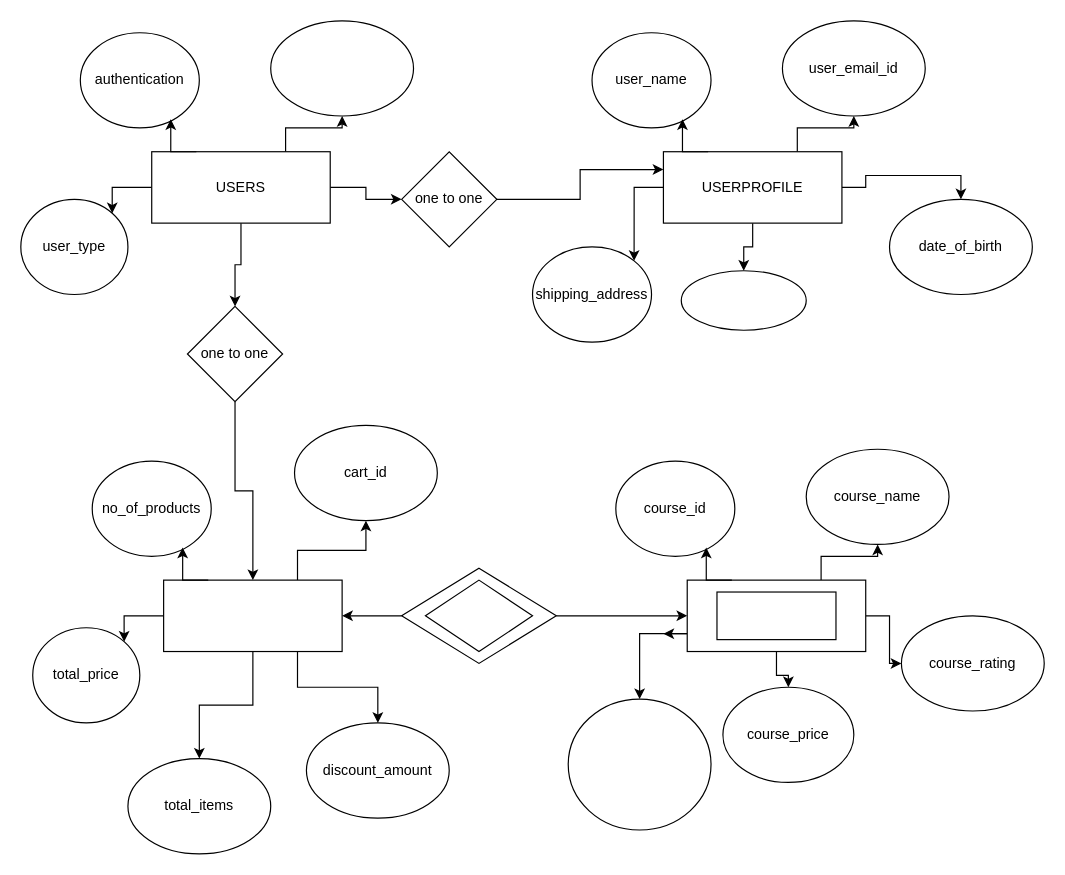
Image size: 1065x875. Some labels were removed from this diagram. Each missing label, with the centre of its shape:
"CART" goes at pixel 252 615.
"course_description" goes at pixel 639 764.
"COURSES" goes at pixel 776 615.
"many to many" goes at pixel 478 615.
"mobile_number" goes at pixel 743 300.
"user_profile" goes at pixel 342 68.
